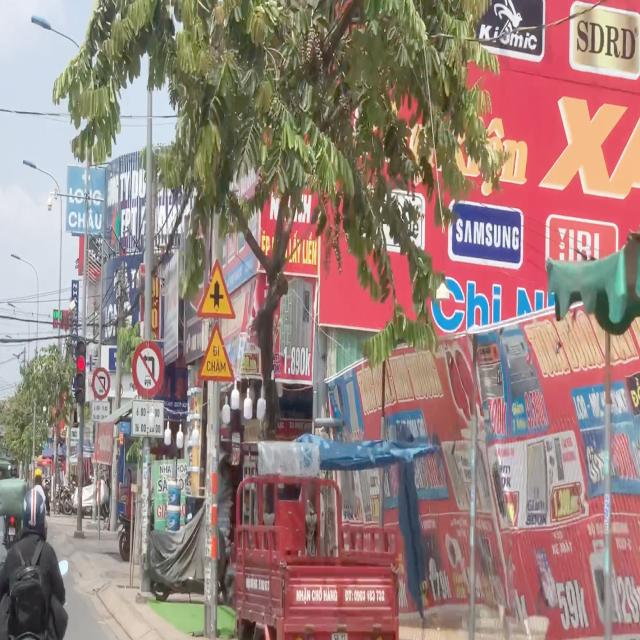Cam re trai: (132, 340, 164, 398), (92, 367, 110, 399)
Giao voi duong khong uu tien: (196, 258, 236, 319)
Nguy hiem: (198, 321, 235, 382)
